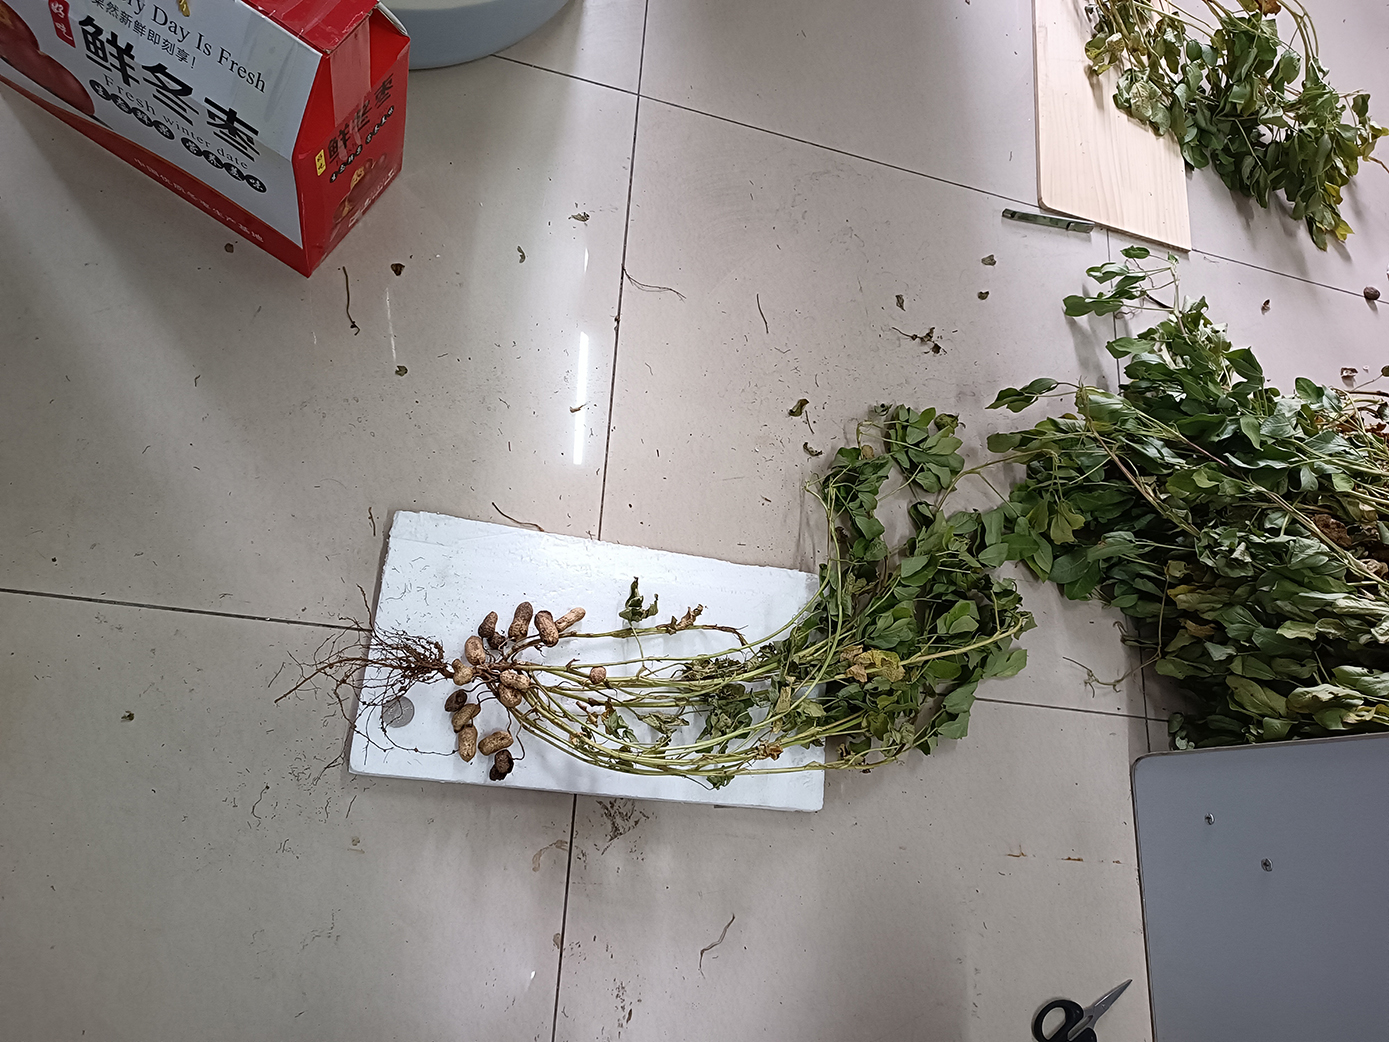h: (479, 731, 514, 754), (452, 703, 481, 730), (458, 723, 476, 763), (554, 607, 586, 630), (497, 684, 522, 709), (465, 635, 485, 665), (500, 670, 529, 691), (450, 658, 472, 684), (589, 665, 607, 685)
l: (508, 602, 533, 642), (490, 750, 514, 782), (535, 610, 556, 646), (478, 610, 497, 638), (445, 690, 467, 711), (488, 632, 505, 650)
